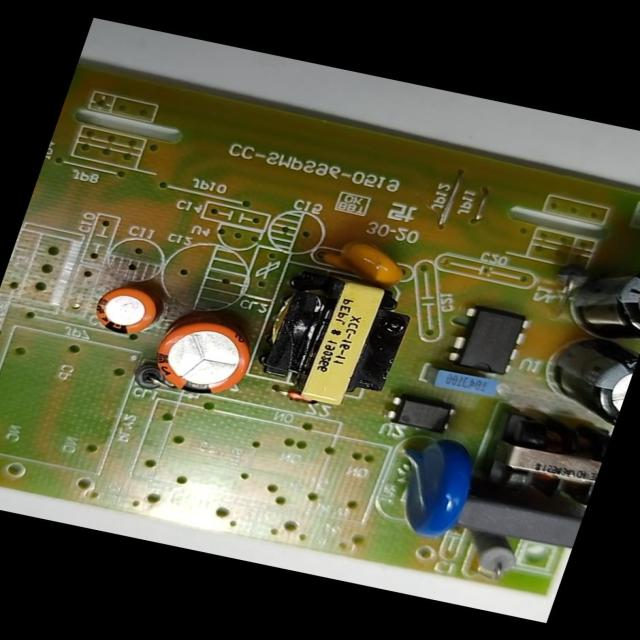Cap1: (138, 304, 266, 405)
Cap2: (82, 276, 167, 342)
Cap3: (529, 327, 639, 430)
Cap4: (553, 243, 639, 345)
MOSFET: (439, 300, 537, 383)
Mov: (370, 427, 490, 547)
Resistor: (452, 526, 526, 582)
Transformer: (248, 259, 423, 417), (473, 400, 615, 511)
